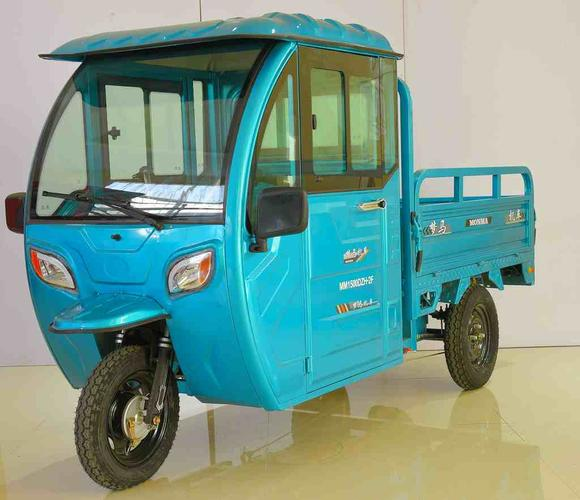empty: (3, 7, 540, 493)
